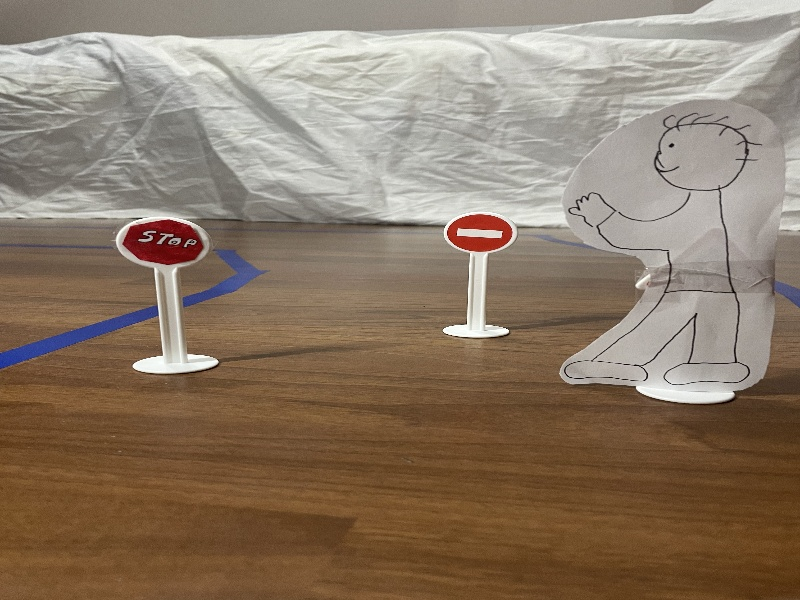interzis: (437, 210, 526, 261)
persoana: (549, 84, 786, 411)
stop: (114, 193, 211, 290)
